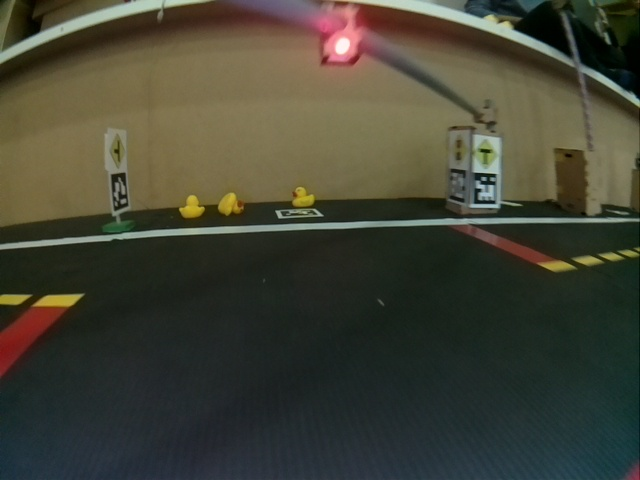Duckie: (218, 193, 244, 216), (180, 195, 205, 218), (292, 187, 315, 205)
Intersection sign: (109, 132, 127, 169), (475, 139, 497, 167)
QR code: (472, 172, 498, 205), (110, 172, 128, 212), (448, 169, 467, 203), (276, 208, 323, 218)
Signal sign: (448, 134, 468, 166)
Traffic light: (321, 6, 361, 65)
